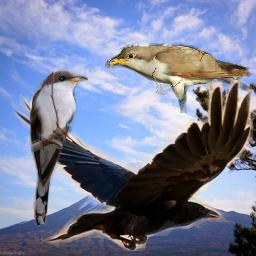Crow: (11, 80, 256, 251)
Cuckoo: (105, 43, 252, 113), (28, 69, 88, 225)
